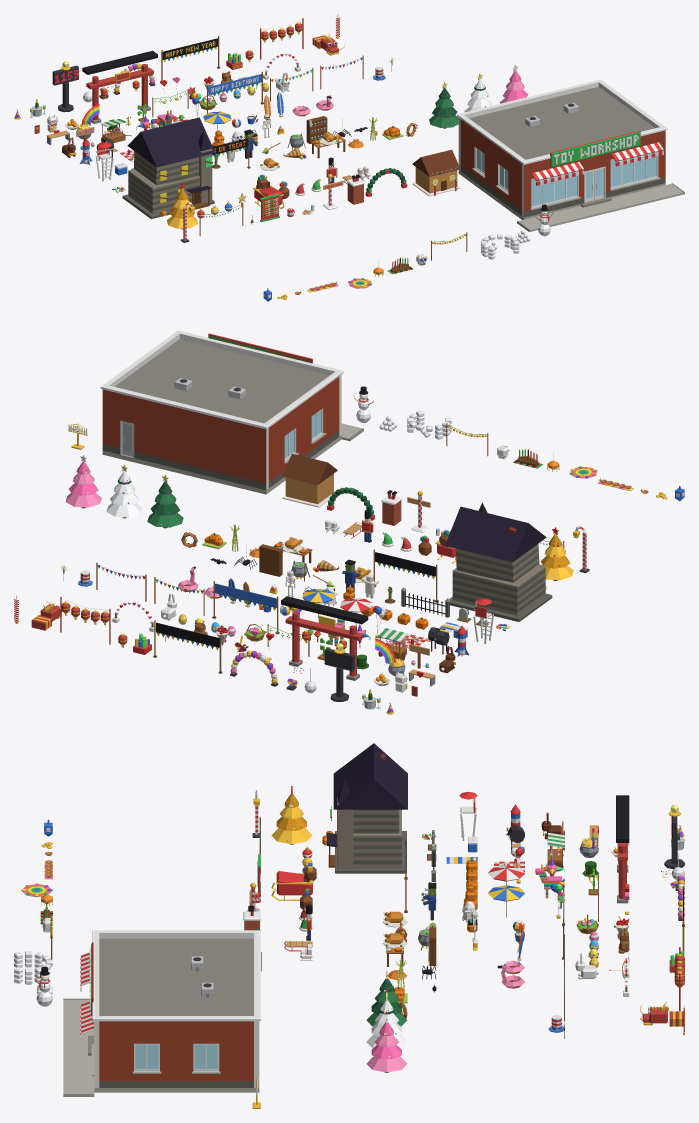
File: Holidays.fbx
3 renders of one model, top to bottom at view 1: azimuth 30°, elevation 25°; view 2: azimuth 150°, elevation 25°; view 3: azimuth 270°, elevation 25°, orthographic. The views are drawn at different scales.
Visible parts, largest first — view 1: SantasWorkshop, SantasWorkshop_Roof, HauntedHouse, HauntedHouse_Roof, SantasWorkshop_Glass, LunarGate, SantasWorkshop_Sign, GingerbreadHouse, GingerbreadHouse_Roof, ChristmasTreeDecorated, GoldChristmasTree, CountdownClock (+10 smaller); view 2: SantasWorkshop, SantasWorkshop_Roof, HauntedHouse, HauntedHouse_Roof, LunarGate, GingerbreadHouse, GingerbreadHouse_Roof, ChristmasTreeDecorated, PinkChristmasTree, SnowyChristmasTree, GoldChristmasTree, CountdownClock (+7 smaller); view 3: SantasWorkshop, SantasWorkshop_Roof, HauntedHouse, HauntedHouse_Roof, LunarGate, PinkChristmasTree, GoldChristmasTree, SantasWorkshop_Glass, SnowFort, SantaSleigh, ChristmasTreeDecorated, SnowyChristmasTree (+2 smaller).
Boxes of the visible parts, <box> form: SantasWorkshop: <box>457,79,684,231</box>; SantasWorkshop_Roof: <box>469,86,654,159</box>; HauntedHouse: <box>122,149,214,219</box>; HauntedHouse_Roof: <box>127,117,215,167</box>; SantasWorkshop_Glass: <box>476,148,656,206</box>; LunarGate: <box>82,50,157,123</box>; SantasWorkshop_Sign: <box>550,130,640,167</box>; GingerbreadHouse: <box>412,167,460,196</box>; GingerbreadHouse_Roof: <box>412,149,460,176</box>; ChristmasTreeDecorated: <box>429,82,458,128</box>; GoldChristmasTree: <box>166,183,197,229</box>; CountdownClock: <box>52,61,78,112</box>; SantasWorkshop: <box>100,330,363,494</box>; SantasWorkshop_Roof: <box>114,339,329,423</box>; HauntedHouse: <box>449,543,552,621</box>; HauntedHouse_Roof: <box>445,502,546,562</box>; LunarGate: <box>281,596,368,680</box>; GingerbreadHouse: <box>282,473,333,507</box>; GingerbreadHouse_Roof: <box>282,453,337,485</box>; ChristmasTreeDecorated: <box>147,474,183,528</box>; PinkChristmasTree: <box>65,454,101,508</box>; SnowyChristmasTree: <box>106,464,142,518</box>; GoldChristmasTree: <box>540,527,573,580</box>; CountdownClock: <box>324,643,354,701</box>; SantasWorkshop: <box>63,930,260,1096</box>; SantasWorkshop_Roof: <box>99,938,253,1015</box>; HauntedHouse: <box>322,797,406,873</box>; HauntedHouse_Roof: <box>333,743,407,809</box>; LunarGate: <box>616,795,629,903</box>; PinkChristmasTree: <box>366,1014,407,1072</box>; GoldChristmasTree: <box>271,786,312,844</box>; SantasWorkshop_Glass: <box>135,1044,217,1069</box>; SnowFort: <box>14,951,52,984</box>; SantaSleigh: <box>276,871,313,895</box>; ChristmasTreeDecorated: <box>366,970,407,1026</box>; SnowyChristmasTree: <box>366,992,406,1048</box>.
Size of the model in its own units: 127 by 22.33 by 130.
1 material, 1 textured.
